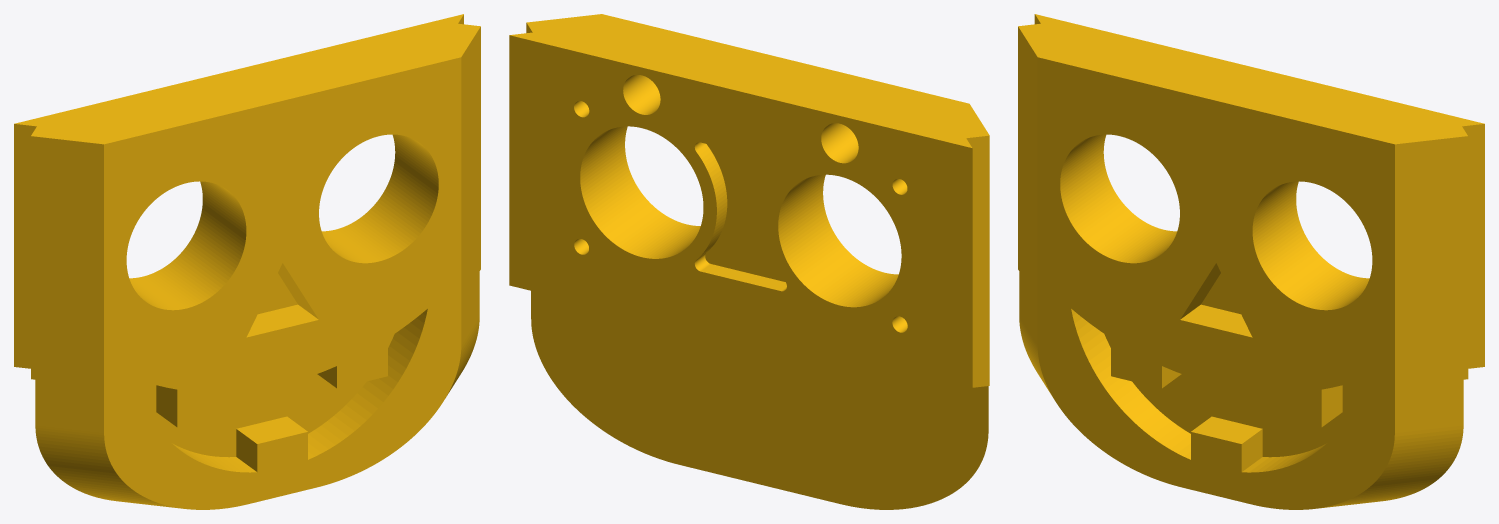
File: FaceUS_Pumpkin.glb
3 renders of one model, left to right at view 1: azimuth 30°, elevation 25°; view 2: azimuth 150°, elevation 25°; view 3: azimuth 330°, elevation 25°, orthographic. The views are drawn at different scales.
Visible parts, largest first — view 1: Node1; view 2: Node1; view 3: Node1.
Part boxes in pixels (<box>): Node1: <box>14,14,480,509</box>; Node1: <box>509,14,989,509</box>; Node1: <box>1018,14,1484,509</box>.
Bounding box in the file's own units: 62 × 52 × 10.4.
